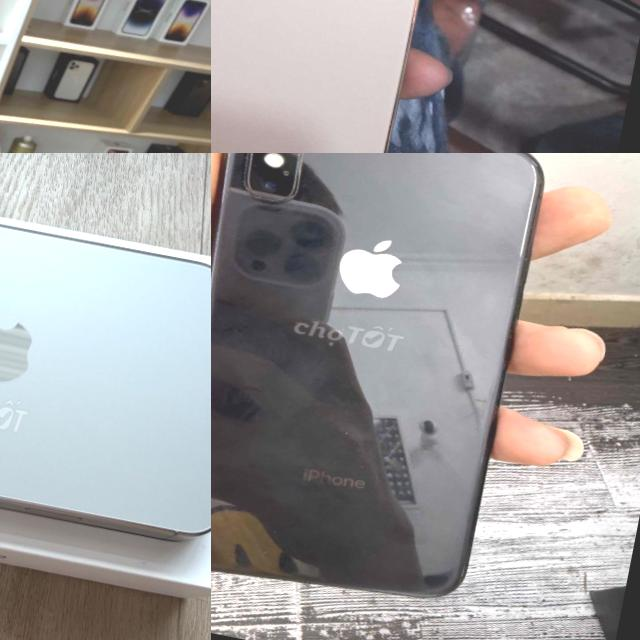scratch: (331, 410, 360, 455), (242, 540, 286, 565), (256, 516, 290, 544), (244, 186, 274, 211), (285, 153, 316, 171), (510, 153, 527, 159)
